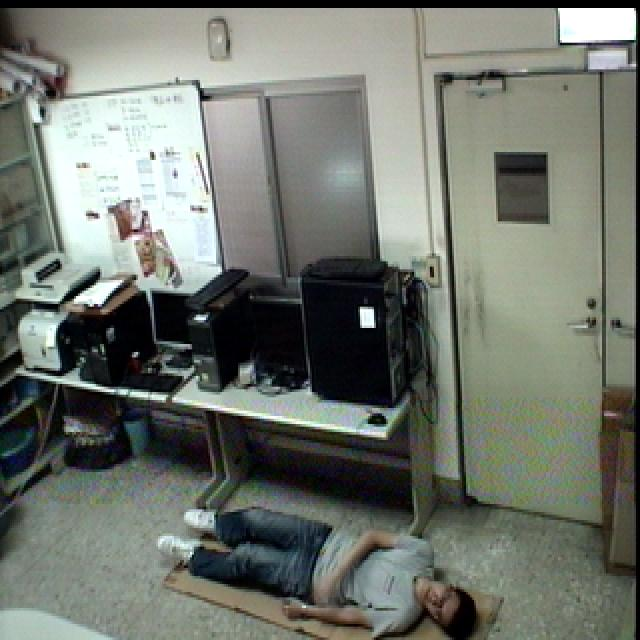lie: (144, 482, 488, 640)
